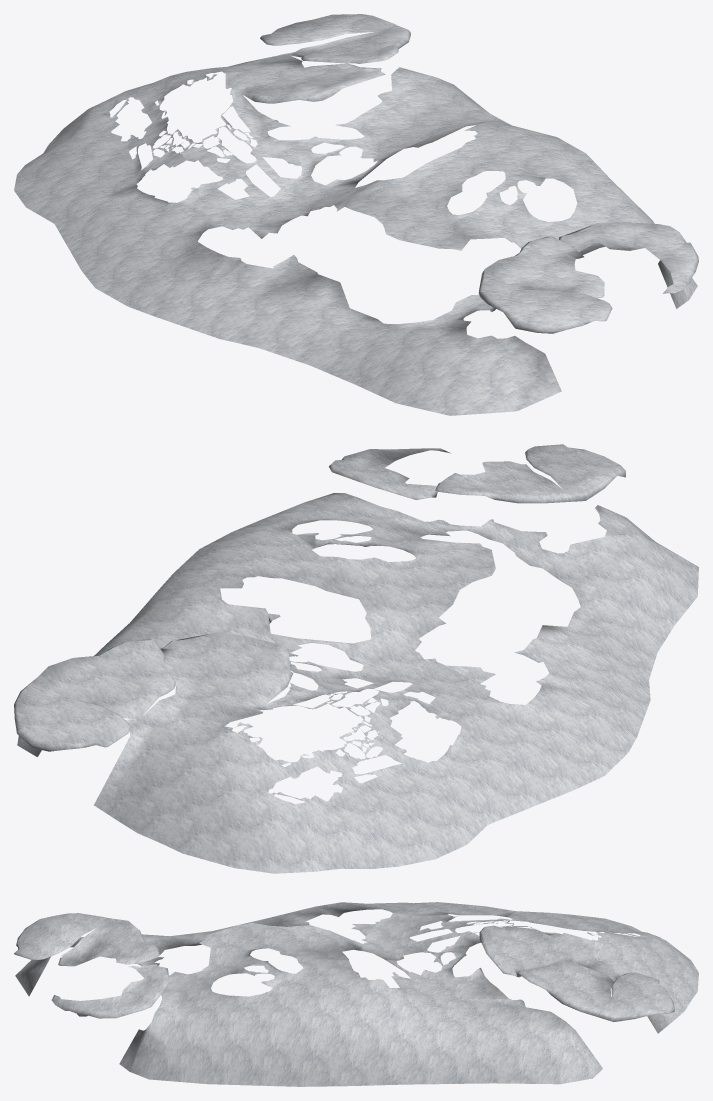
Rendered from Custom_Model_a34164-transformed.glb.
3 renders of one model, top to bottom at view 1: azimuth 30°, elevation 25°; view 2: azimuth 150°, elevation 25°; view 3: azimuth 270°, elevation 25°, orthographic. The views are drawn at different scales.
Visible parts, largest first — view 1: GroundPlateau3.001; view 2: GroundPlateau3.001; view 3: GroundPlateau3.001.
Part boxes in pixels (x1=…): GroundPlateau3.001: x1=14, y1=14, x2=698, y2=415; GroundPlateau3.001: x1=14, y1=444, x2=698, y2=873; GroundPlateau3.001: x1=14, y1=902, x2=698, y2=1086.
Bounding box in the file's own units: 7.78 × 1.54 × 11.81.
Materials: 1 (1 with a texture image).
